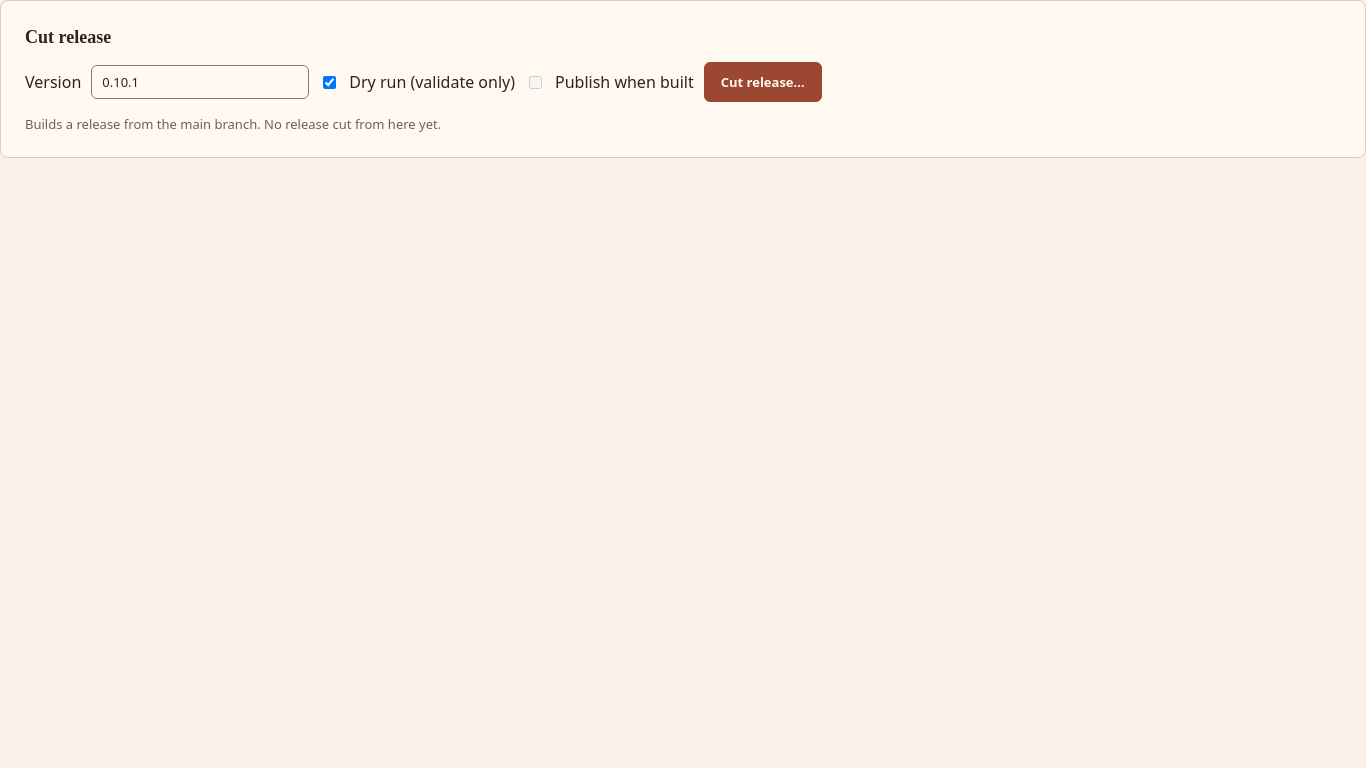
Scenario: Cut release › Cancel in the confirm dialog sends nothing
This screenshot has width=1366, height=768.
Replace the text in the field with test id "cut-version" with "0.10.0" at (200, 82), box [91,65,309,99]
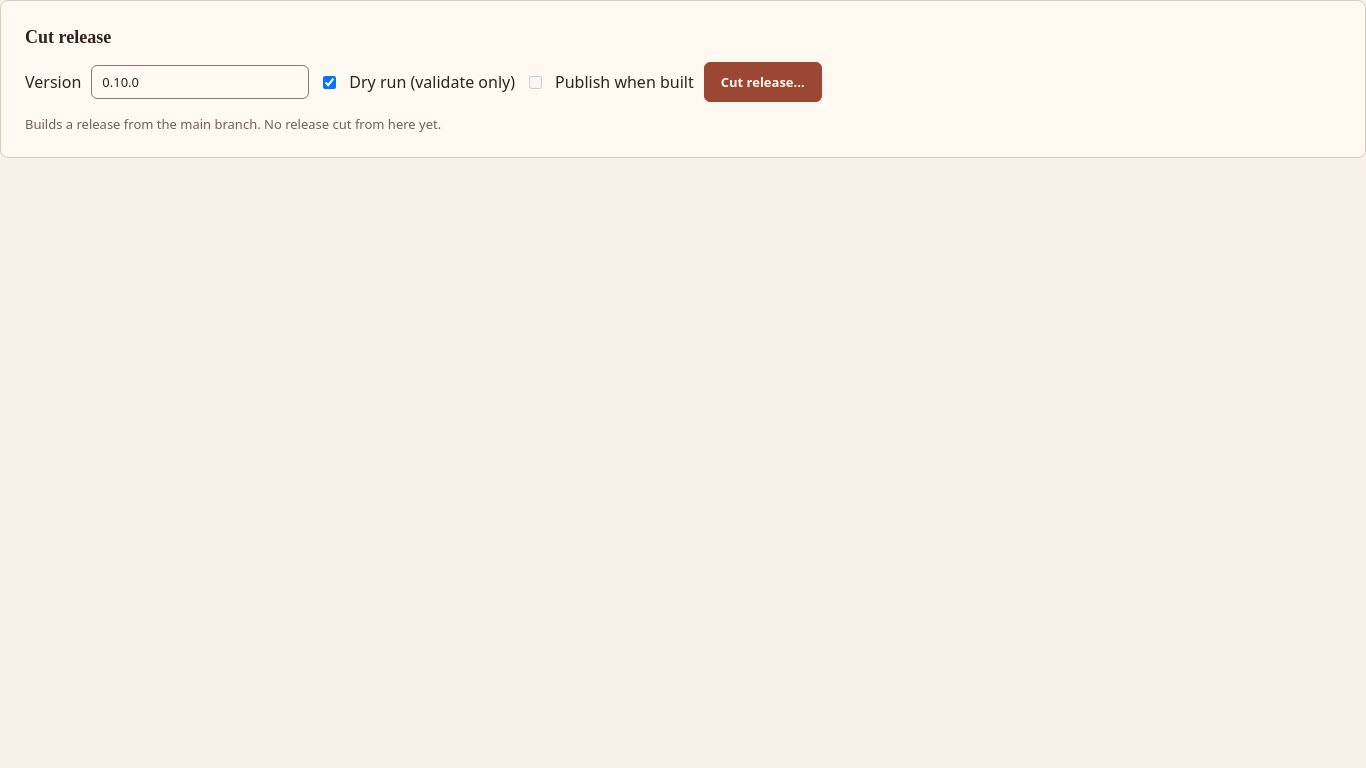
Click the button with test id "cut-release-open" at (763, 82), box [704,62,822,102]
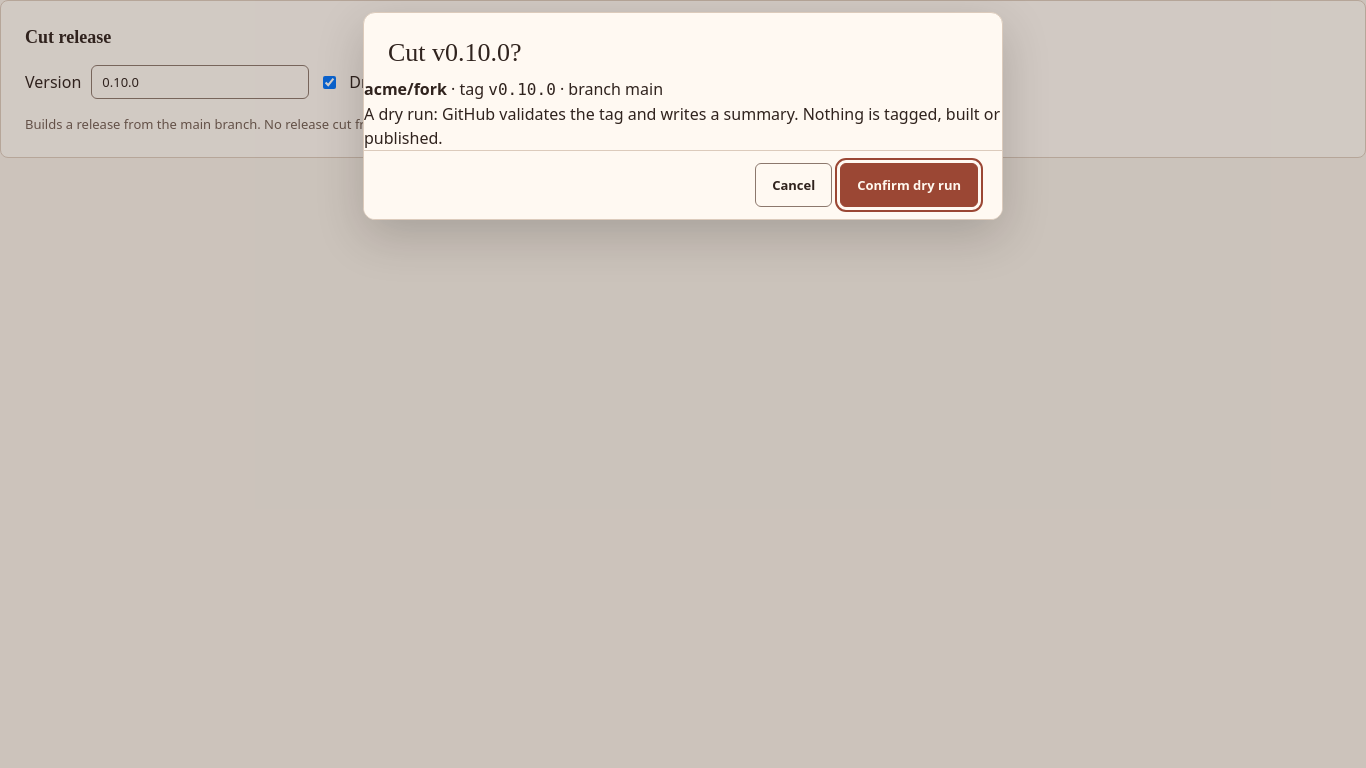
Now the element with test id "cut-confirm-text" reads "acme/fork · tag v0.10.0 · branch main", box [364,78,663,100]
Click the button with test id "cut-cancel" at (794, 185), box [755,163,832,207]
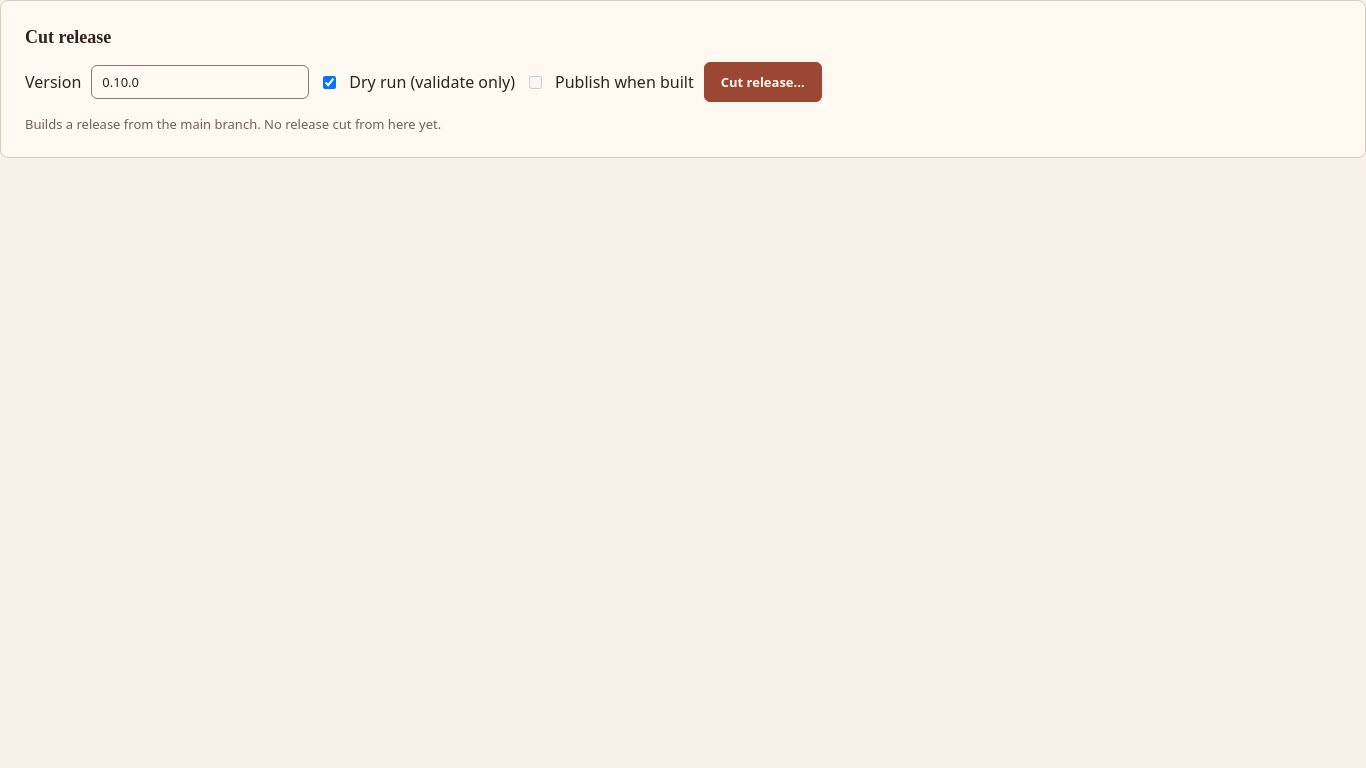
Now the dialog with test id "cut-confirm" is gone
